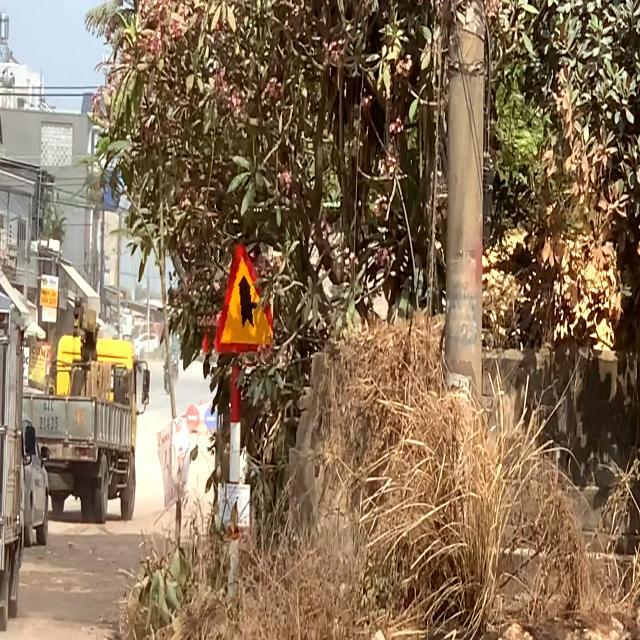W-207b: (196, 233, 273, 367)
